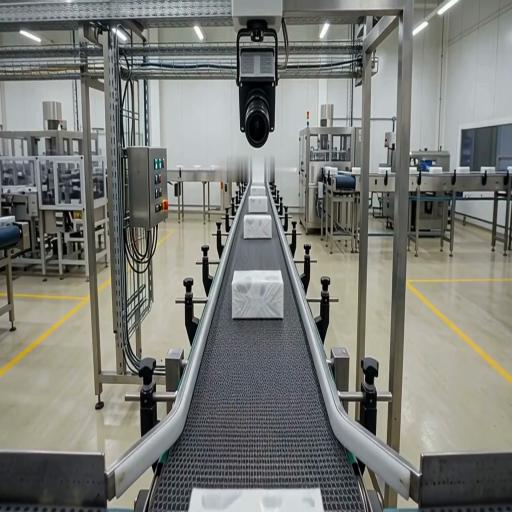good: (232, 271, 283, 319), (244, 215, 271, 238), (249, 196, 267, 213), (251, 185, 266, 196)
